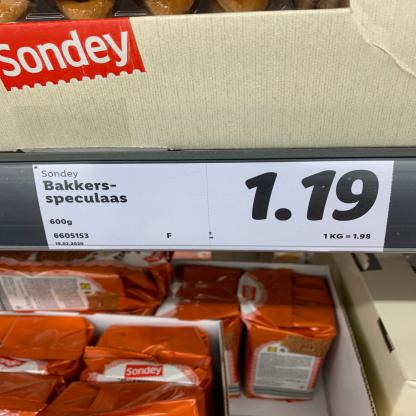prtg: (34, 161, 395, 253)
